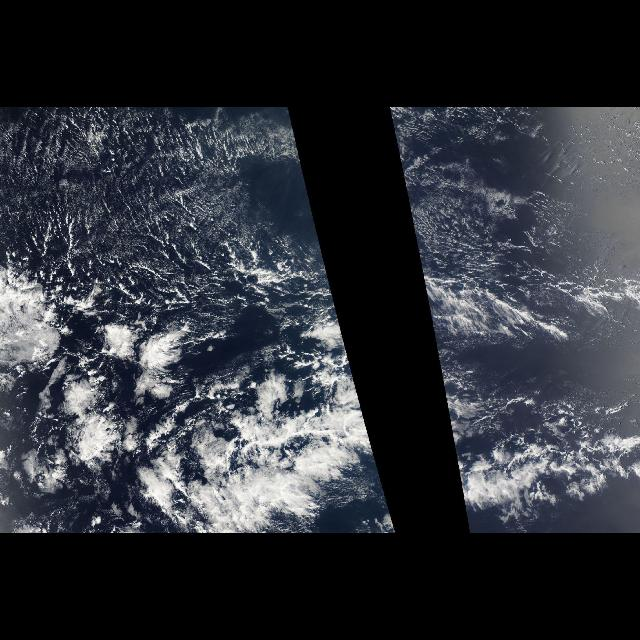Fish: (191, 316, 375, 532)
Flower: (15, 302, 163, 493)
Gravel: (6, 112, 284, 296)
Sugar: (4, 108, 310, 316)
